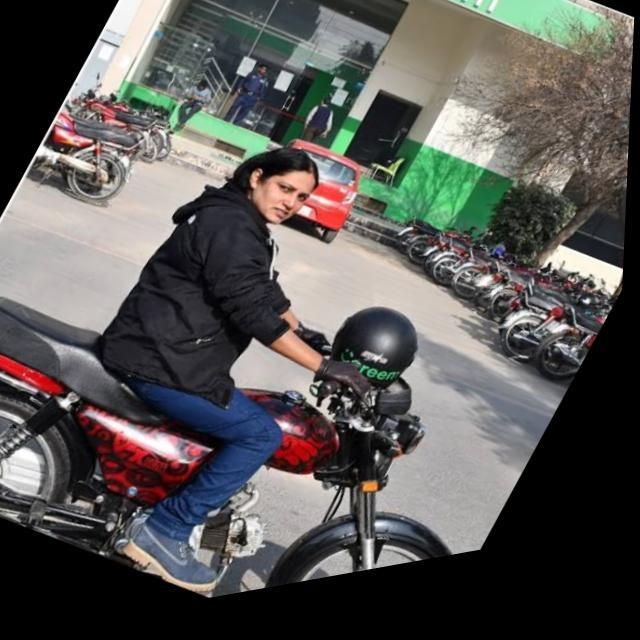Nonhelmet: (219, 142, 332, 228)
